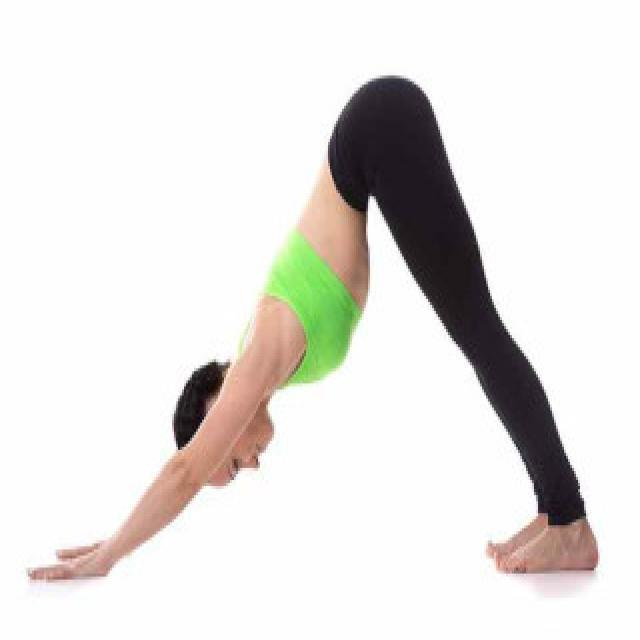yoga-pose downward: (27, 66, 600, 586)
